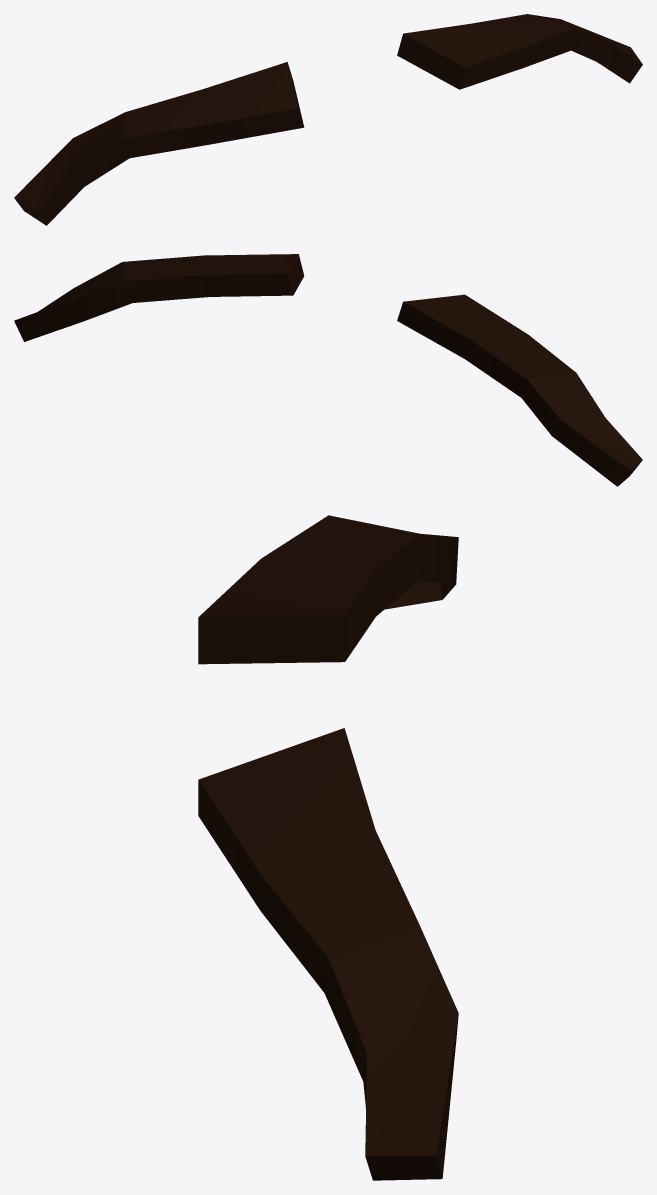
The model's file is Brow 02.FBX.
The picture shows the model from 3 angles, top to bottom: view 1: azimuth 30°, elevation 25°; view 2: azimuth 150°, elevation 25°; view 3: azimuth 270°, elevation 25°; orthographic projection. The views are drawn at different scales.
Parts seen in each view (by area): view 1: Brow 02; view 2: Brow 02; view 3: Brow 02.
Boxes of the visible parts, x1,y1,x2,y2 form: Brow 02: (14,14,642,225); Brow 02: (14,254,642,486); Brow 02: (198,515,458,1180).
Size of the model in its own units: 22.49 by 4.11 by 3.91.
